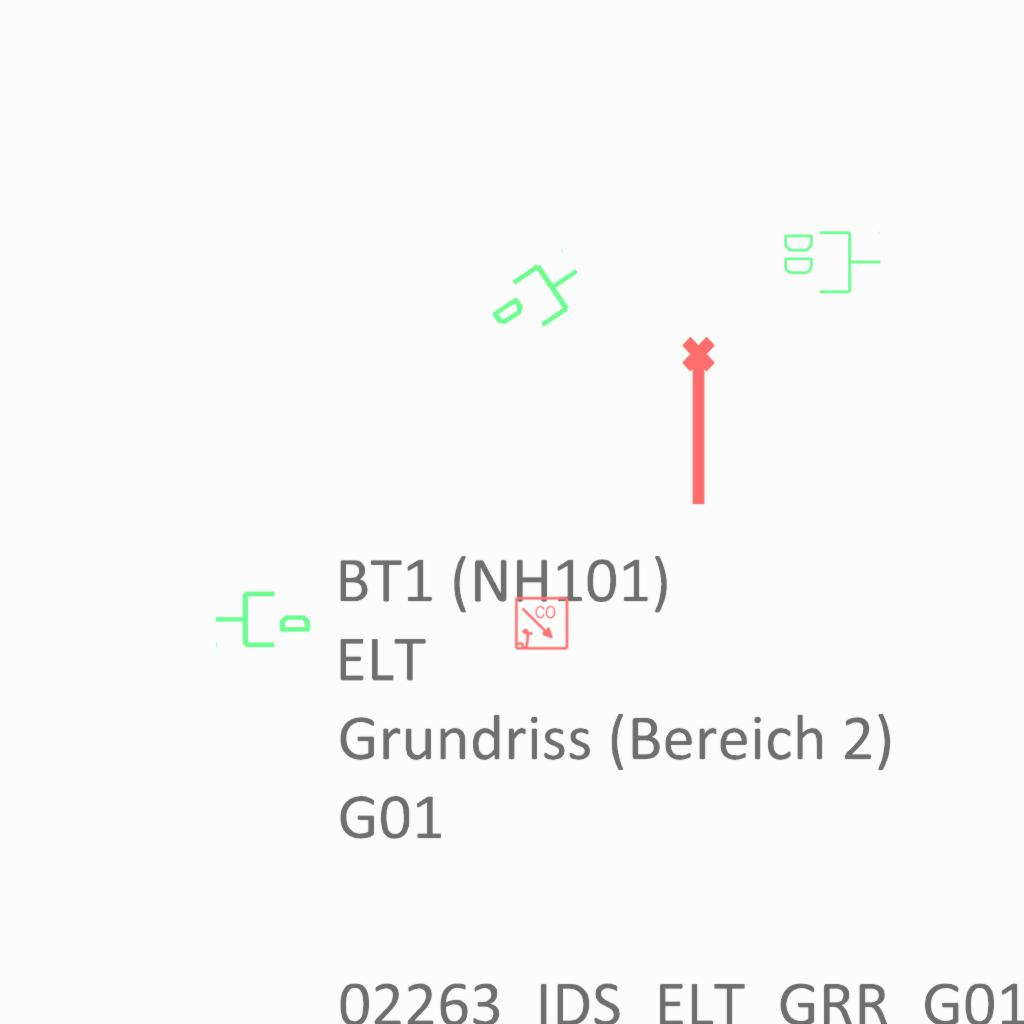ASR_Ansaugoeffnung: (678, 334, 724, 510)
Datenanschluss_einfach: (477, 242, 600, 356), (213, 583, 313, 652)
Datenanschluss_zweifach: (780, 227, 883, 296)
ROA_Rauchmelder_optisch_mit_Signalgeber_(Sockelsirene): (514, 596, 570, 652)
